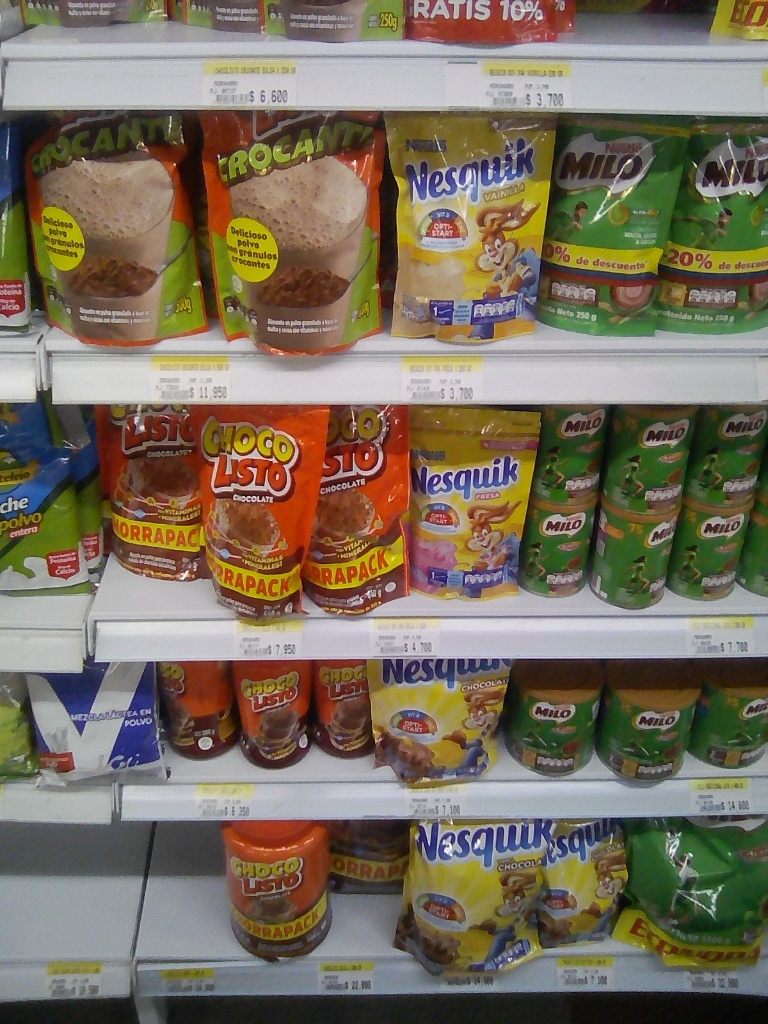COL0170102DYP50000: (207, 113, 389, 356)
COL0170103DYP44000: (80, 403, 203, 606)
COL0170103TRR00100: (223, 824, 353, 958)
COL0170103TRR30000: (152, 651, 238, 786)
COL0170203DYP25000: (538, 110, 680, 345)
COL0170203LAT20000: (676, 496, 759, 601)
COL0170203LAT40000: (685, 667, 768, 783)
COL0170305DYP20000: (413, 403, 537, 608)
COL0170306DYP20000: (388, 107, 535, 346)
